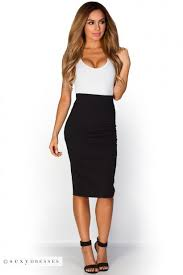F_tailored skirt: (58, 92, 122, 203)
